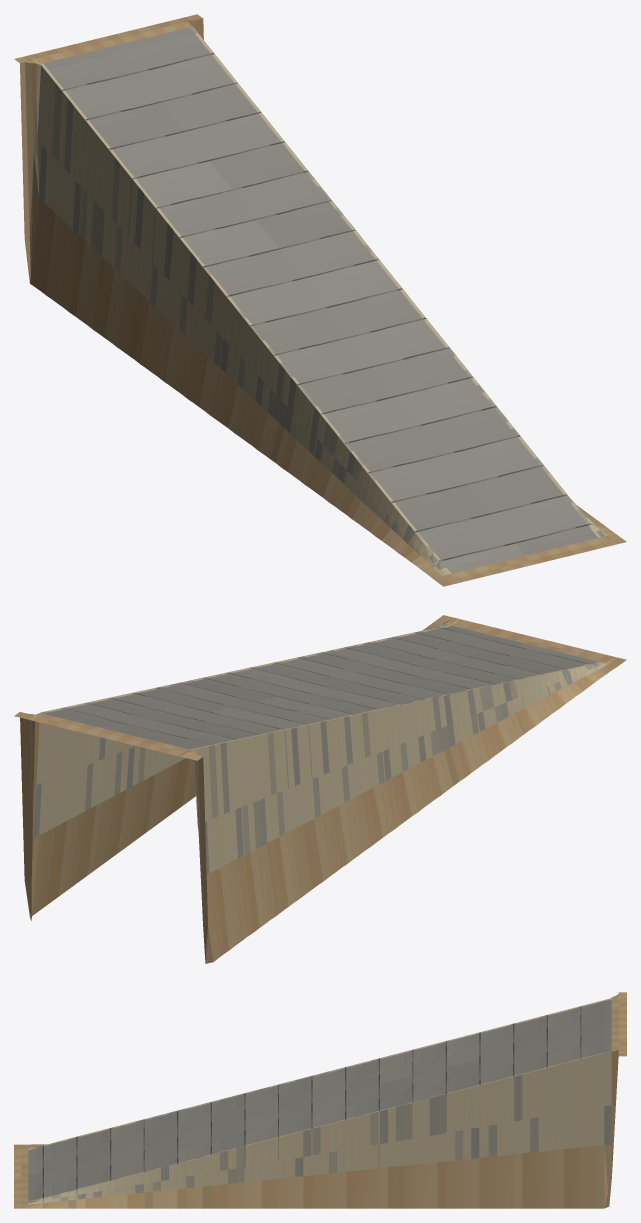
File: liner_weir_chute.glb
3 renders of one model, top to bottom at view 1: azimuth 30°, elevation 25°; view 2: azimuth 150°, elevation 25°; view 3: azimuth 270°, elevation 25°, orthographic. The views are drawn at different scales.
Parts seen in each view (by area): view 1: liner_weir_chute_body; view 2: liner_weir_chute_body; view 3: liner_weir_chute_body.
Part boxes in pixels (x1,y1,x2,y2): liner_weir_chute_body: (14, 14, 626, 586); liner_weir_chute_body: (14, 615, 626, 963); liner_weir_chute_body: (14, 992, 626, 1208).
Size of the model in its own units: 36 by 40.15 by 146.
